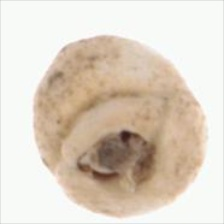L3: (75, 129, 159, 189)
L4: (33, 34, 206, 217)
